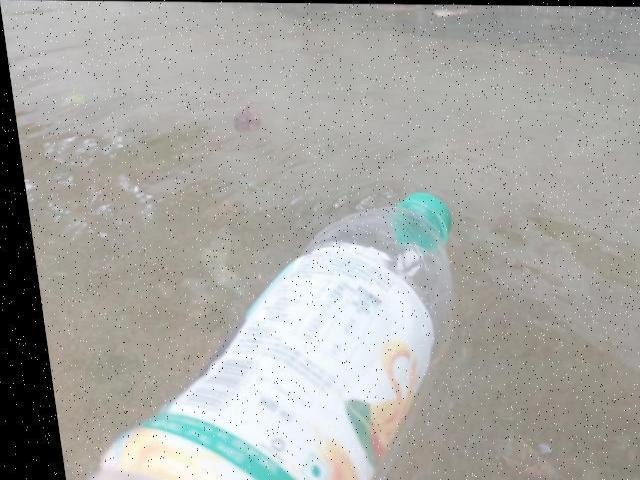Bottle: (85, 183, 457, 480)
